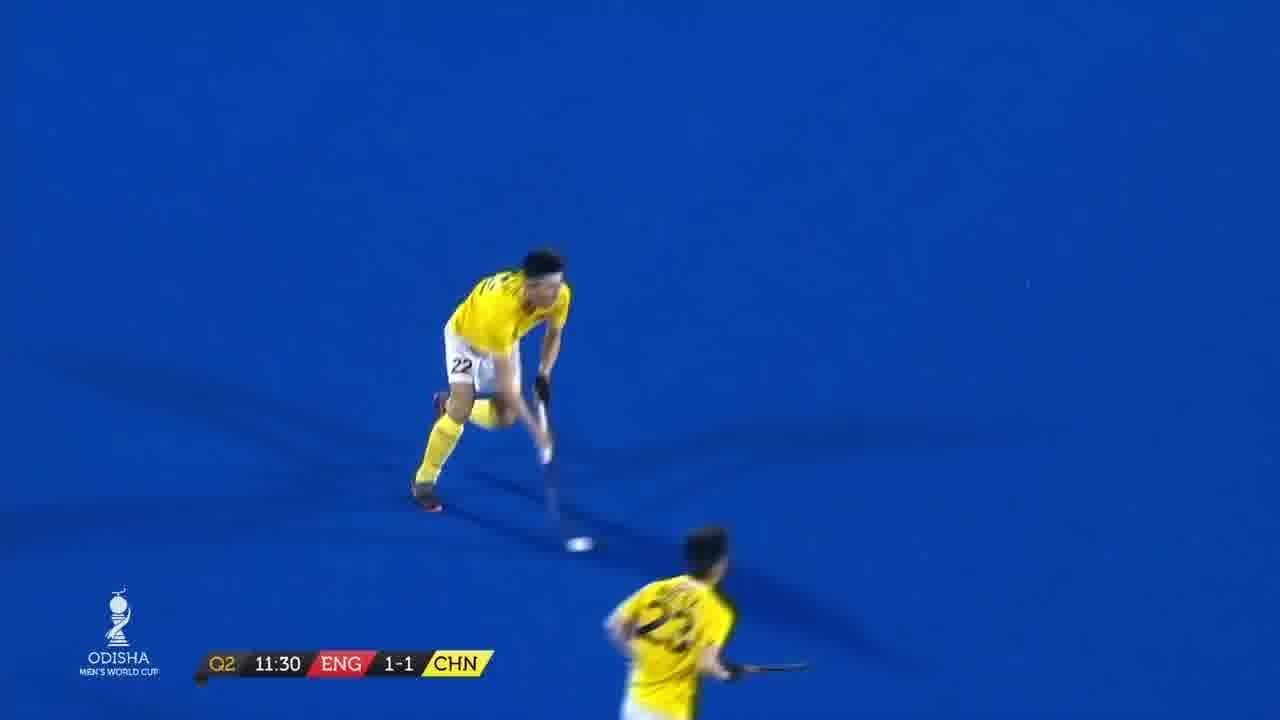ball: (568, 532, 594, 554)
